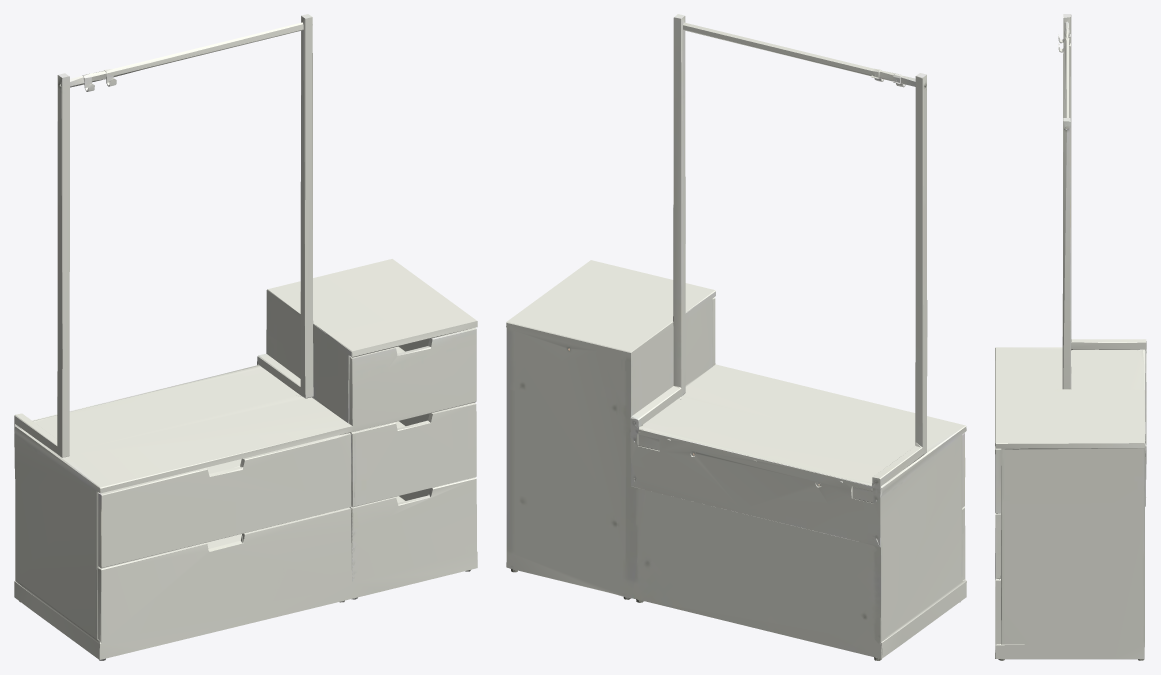
File: nordli-comoda-de-5-cajones-blanco.glb
3 renders of one model, left to right at view 1: azimuth 30°, elevation 25°; view 2: azimuth 150°, elevation 25°; view 3: azimuth 270°, elevation 25°, orthographic. The views are drawn at different scales.
Visible parts, largest first — view 1: ProcessedMeshNode; view 2: ProcessedMeshNode; view 3: ProcessedMeshNode.
Boxes of the visible parts, x1,y1,x2,y2 form: ProcessedMeshNode: [14, 14, 477, 660]; ProcessedMeshNode: [506, 14, 966, 660]; ProcessedMeshNode: [995, 14, 1146, 660].
Bounding box in the file's own units: 1.2 × 1.69 × 0.4772.
1 material, 1 textured.
